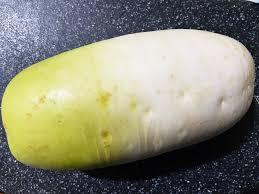radish: (0, 8, 103, 52)
